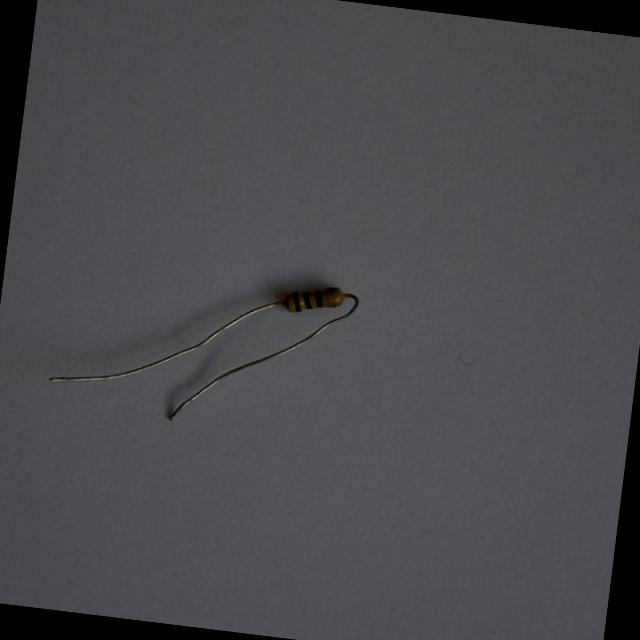Resistor: (284, 286, 346, 317)
black: (303, 293, 312, 309)
brown: (293, 292, 301, 312), (316, 290, 322, 307)
gold: (330, 289, 336, 308)
